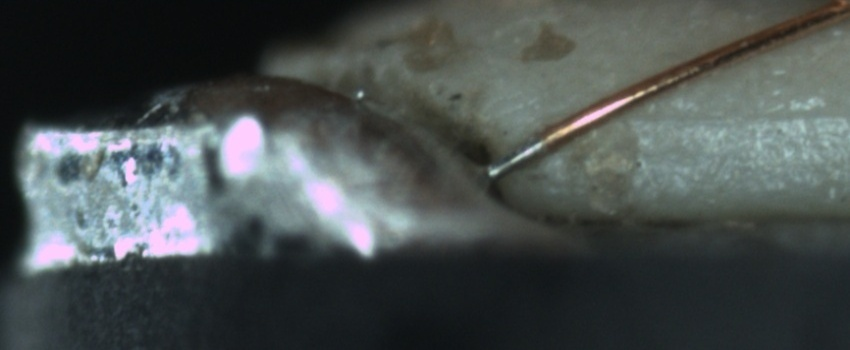DL: (624, 86, 848, 145)
TS: (483, 136, 540, 179)
TTCW: (484, 122, 563, 183)
